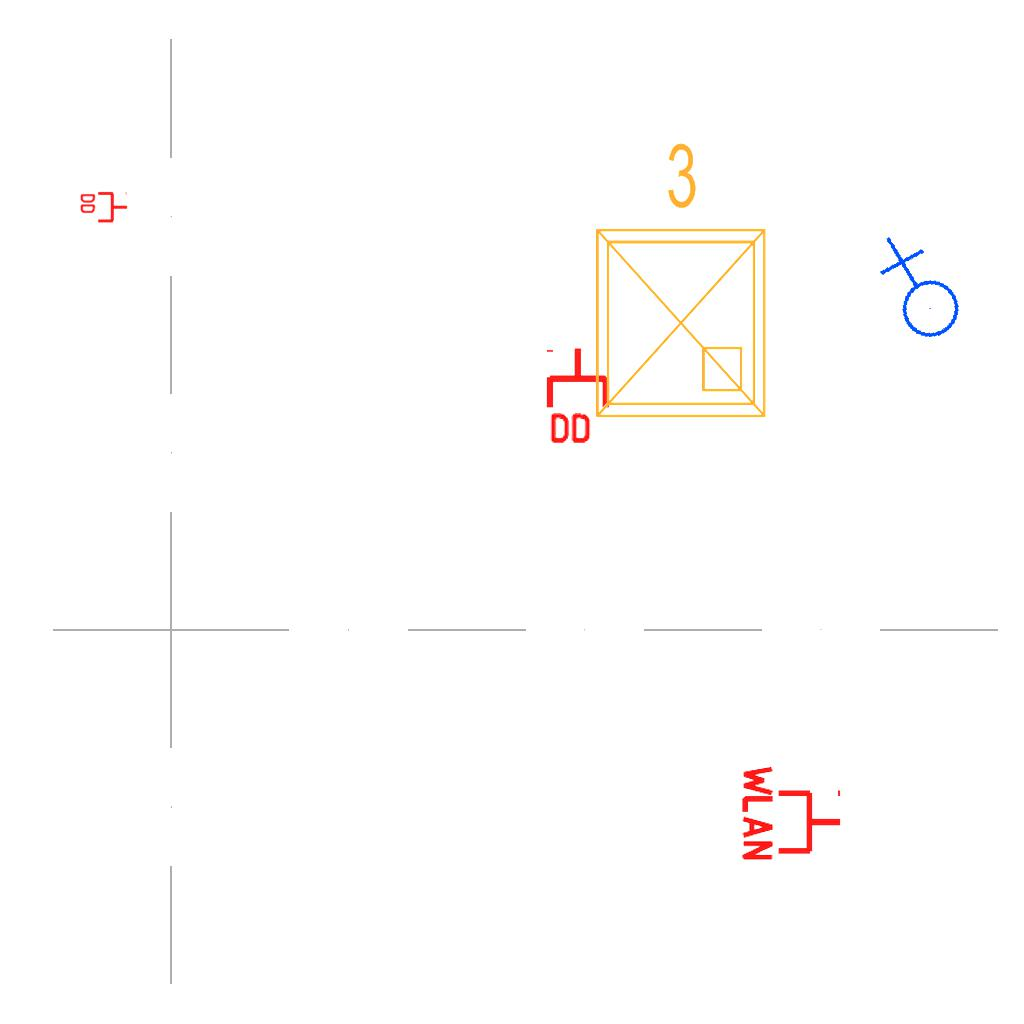Datenanschluss_zweifach: (545, 345, 614, 448), (78, 191, 129, 225)
Einbaudownlights_LED_Konferenzraeume: (573, 132, 781, 432)
Elektroanschluss_allgemein_230V_Geraeteanschlussdose_230V: (859, 234, 974, 352)
WLAN: (740, 761, 845, 865)
